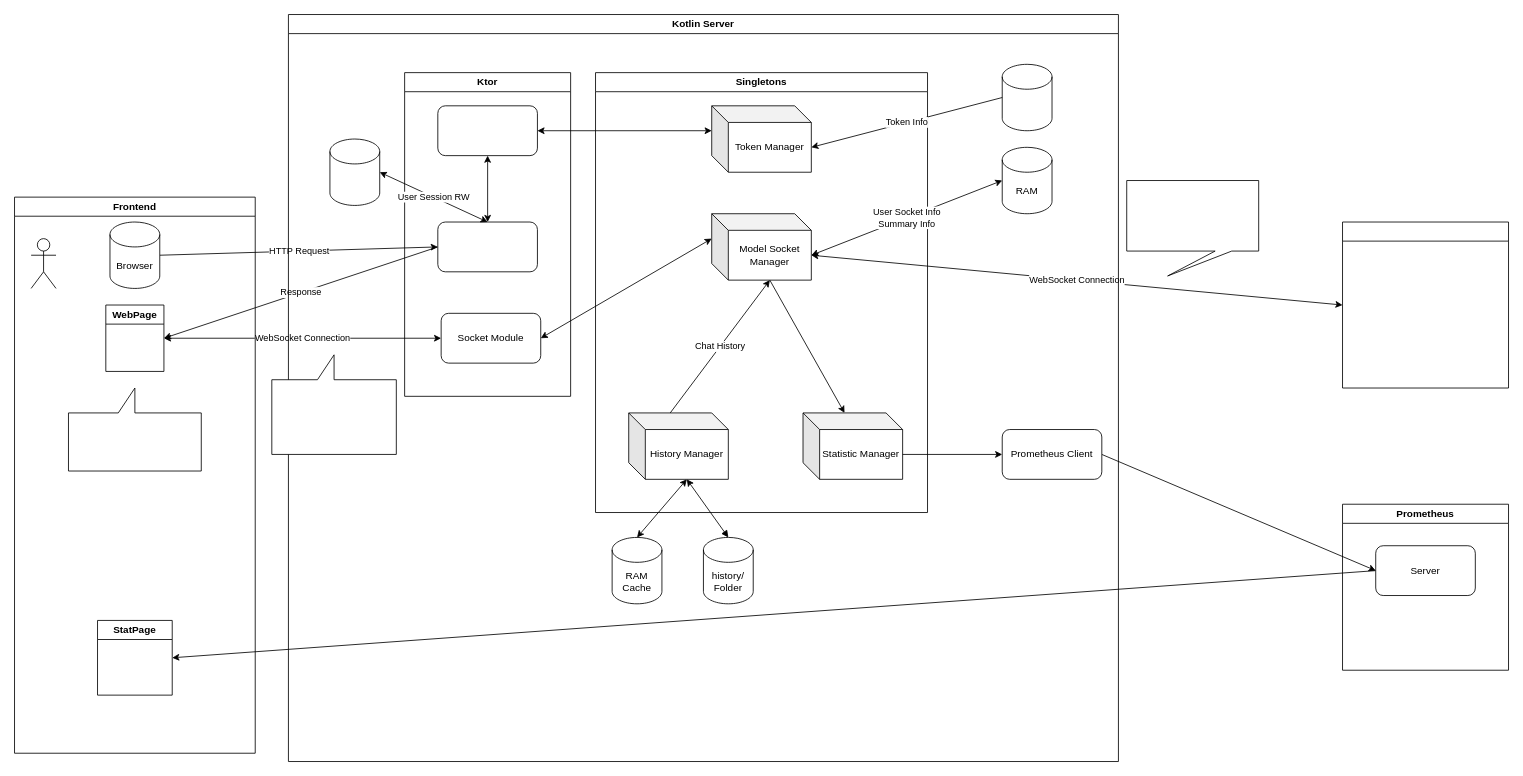
The diagram is 1523 pixels wide and 776 high, and some of its shapes have lost their labels. Here are the shapes that lost their labels. From the top down, the centre of each, then its label:
At point 1026,97: "tokens.csv File".
At point 487,130: "Auth Module".
At point 354,171: ".sessions/ Folder".
At point 487,246: "Routing Module (Freemarker)".
At point 1192,228: "Protocol: ModelSendProtocol ModelSummaryProtocol ModelReturnProtocol".
At point 43,263: "User".
At point 1425,304: "Python Backend".
At point 333,404: "Protocol: 1 character code + param from the 2nd character".
At point 134,429: "Frontend uses MarkMap and Marked to display markdown given by the server".
